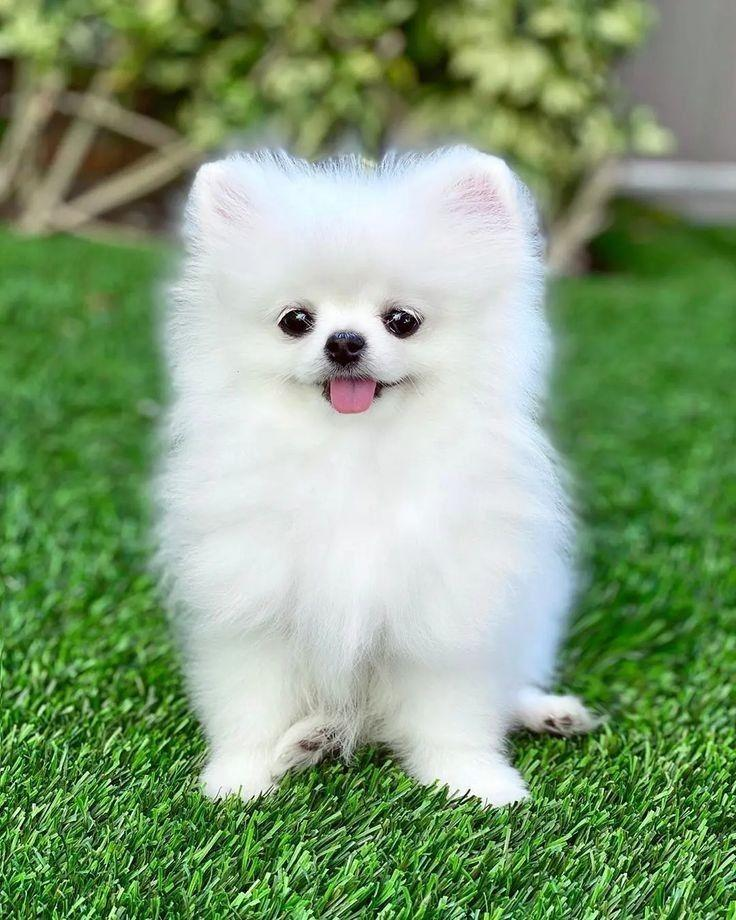puppy-dog: (149, 145, 614, 813)
